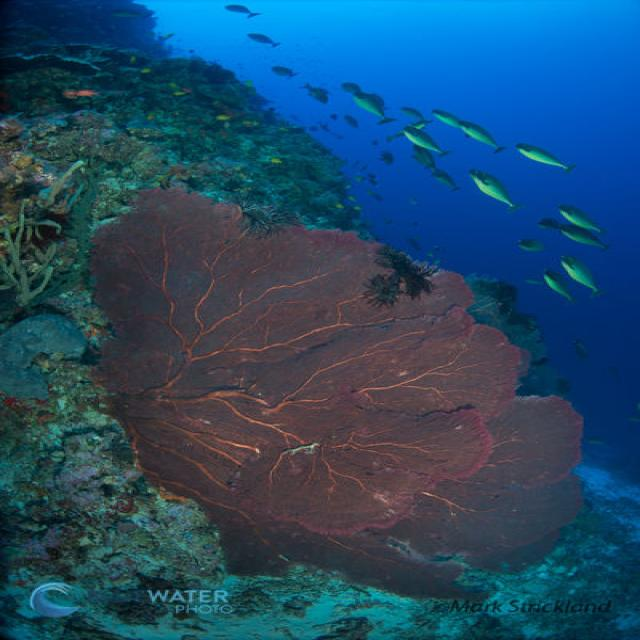Coral: (88, 185, 585, 603)
